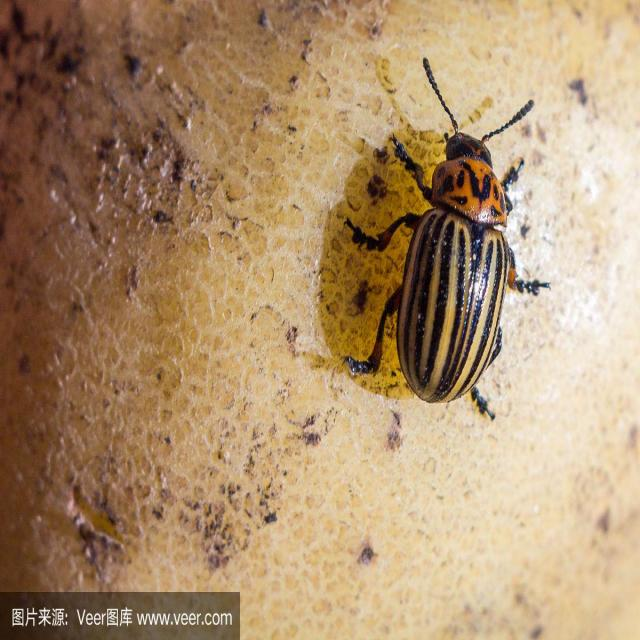ShuCaiHuaBanChong-Grown-: (372, 109, 532, 424)
